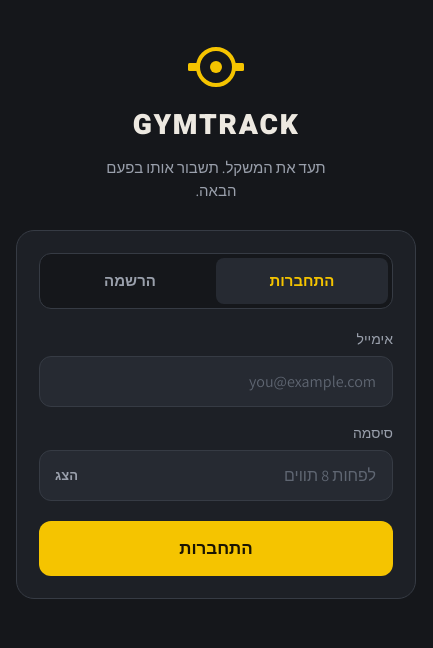
Test: AuthPage › shows a Hebrew error message when login fails with invalid credentials
This screenshot has width=433, height=648.
Check: the tab "התחברות" is shown, box [216,258,388,304]
Type "user@example.com" into the field labelled "אימייל" at (216, 382), box [39,356,393,407]
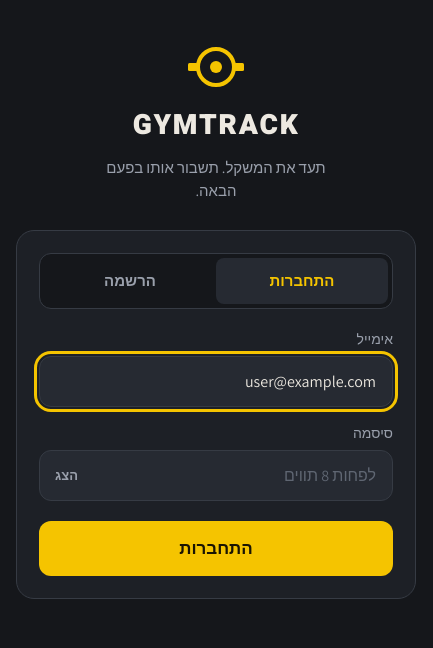
Type "password123" into the password field labelled "סיסמה" at (216, 476), box [39,450,393,501]
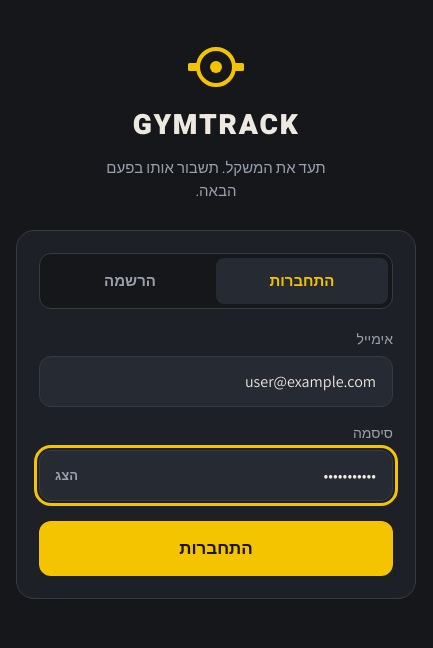
Click the button "התחברות" at (216, 548), box [39,521,393,576]
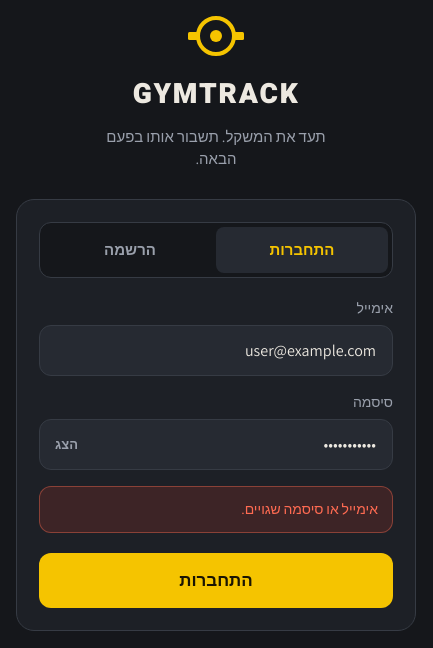
Check: the message reads "אימייל או סיסמה שגויים.", box [241,500,378,518]
